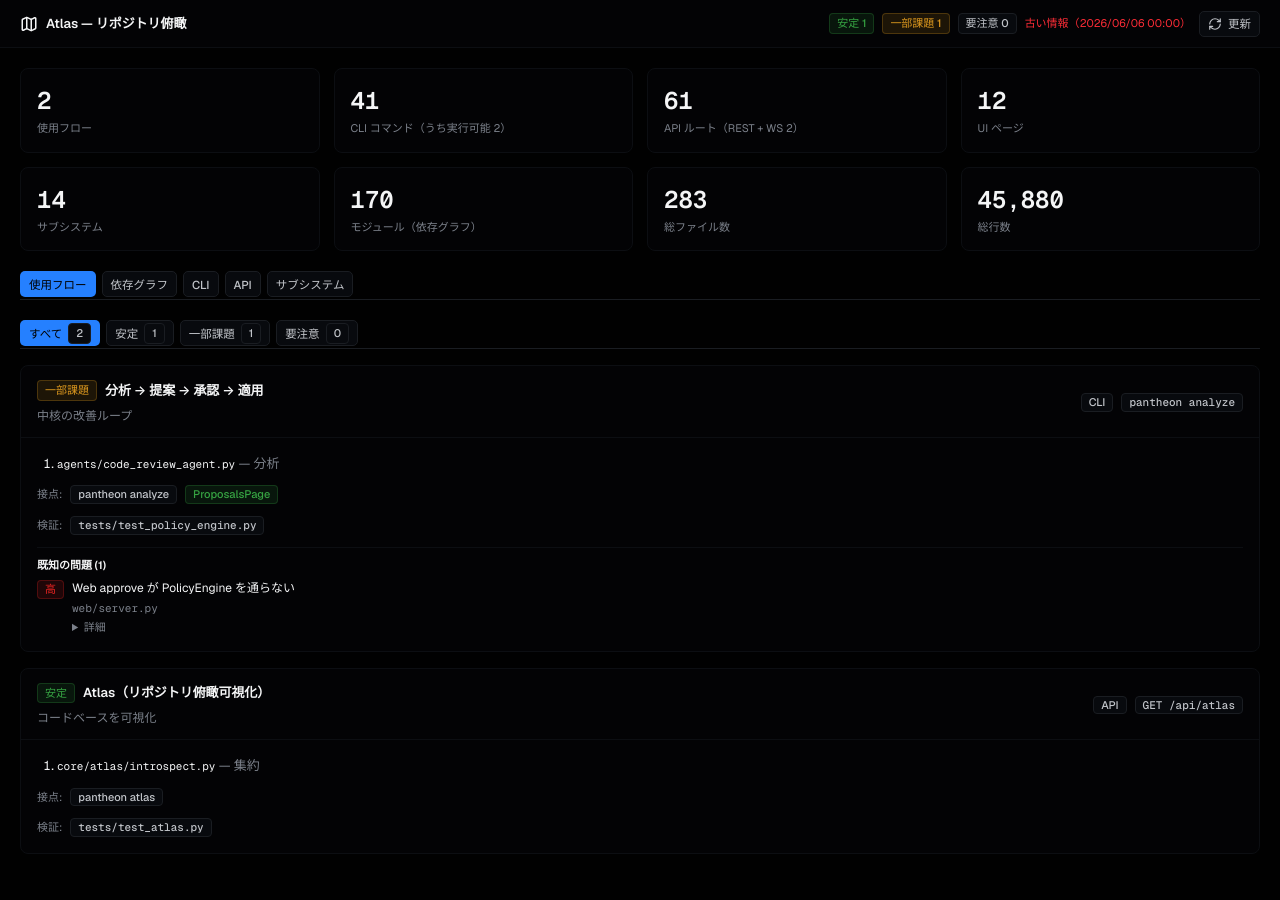
Scenario: AtlasPage › status header badges are clickable and filter flows tab
Expected: the text "分析 → 提案 → 承認 → 適用" is shown, [105, 381, 264, 400]
// Click '安定' badge → should still show flows tab (now filtered to solid)
Click the button titled "安定フローを表示".
click(852, 24)  # box [829, 13, 874, 34]
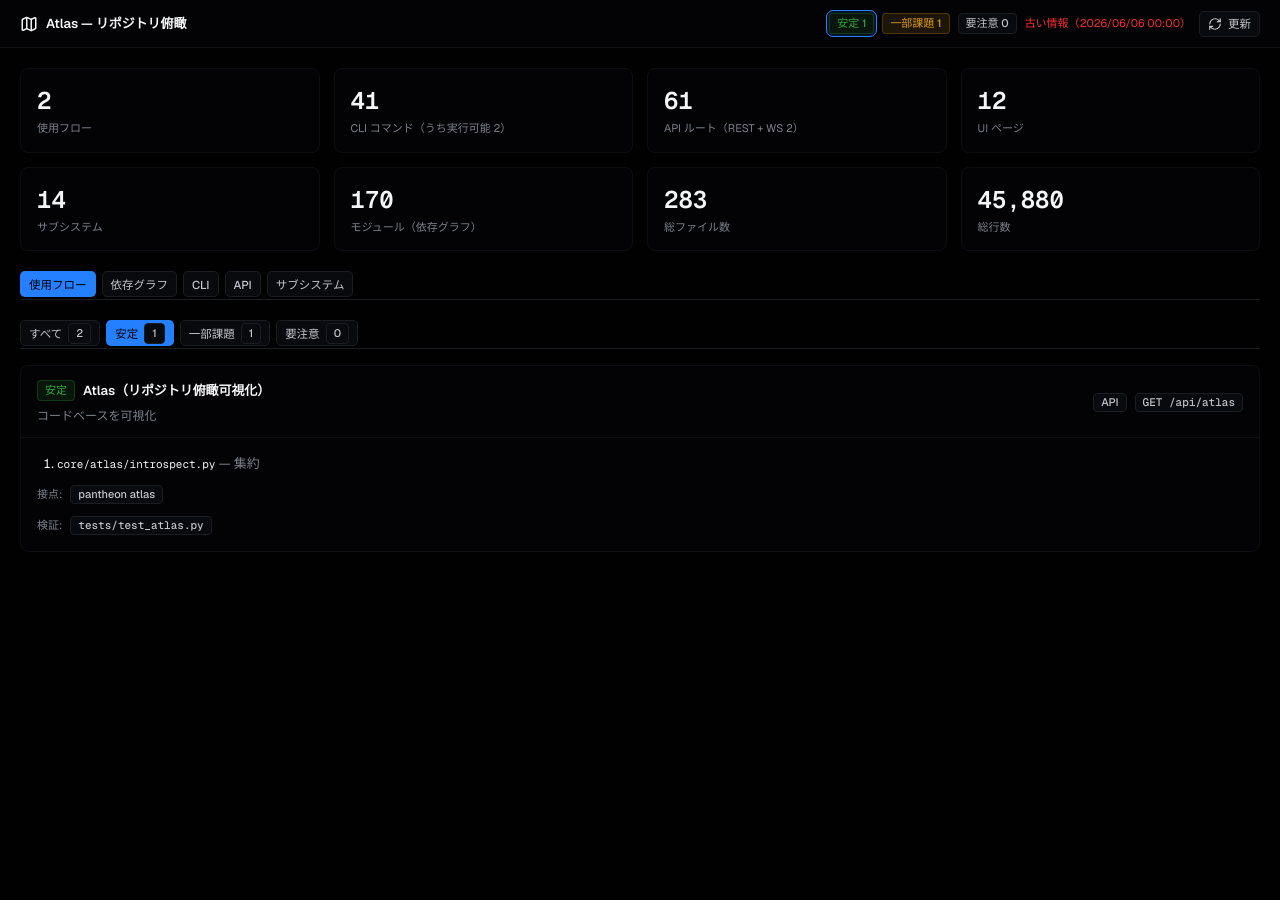
Expected: the text "Atlas（リポジトリ俯瞰可視化）" is shown, [83, 381, 270, 400]
Expected: the text "分析 → 提案 → 承認 → 適用" is gone
